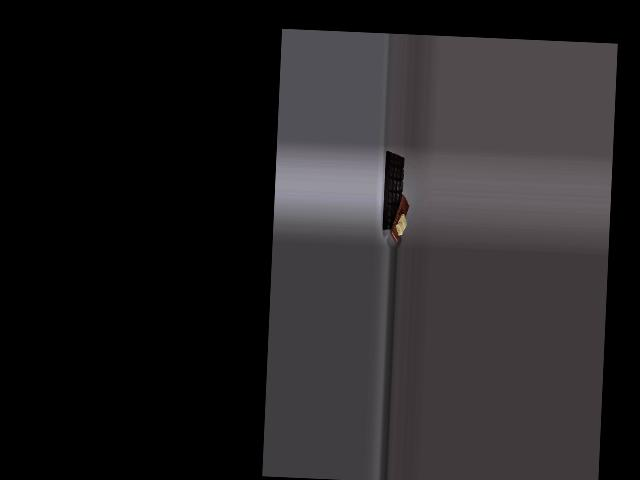chocolate: (379, 150, 407, 235)
